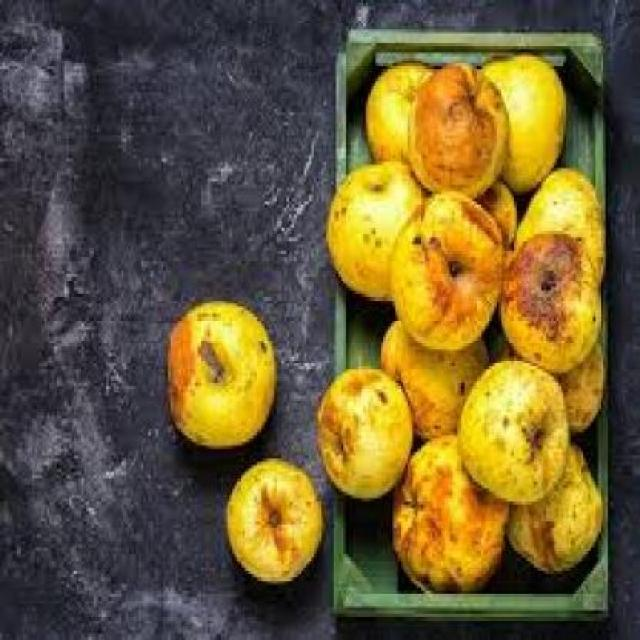garbage: (326, 37, 613, 604), (158, 288, 324, 585)
